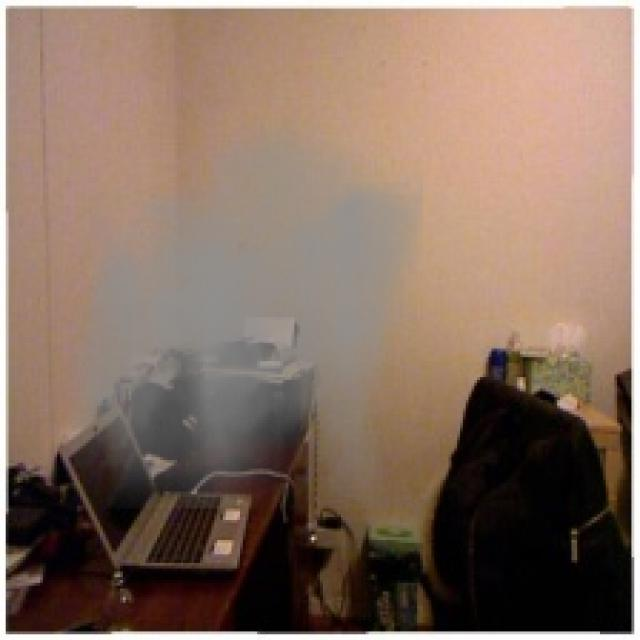smoke: (66, 103, 423, 508)
